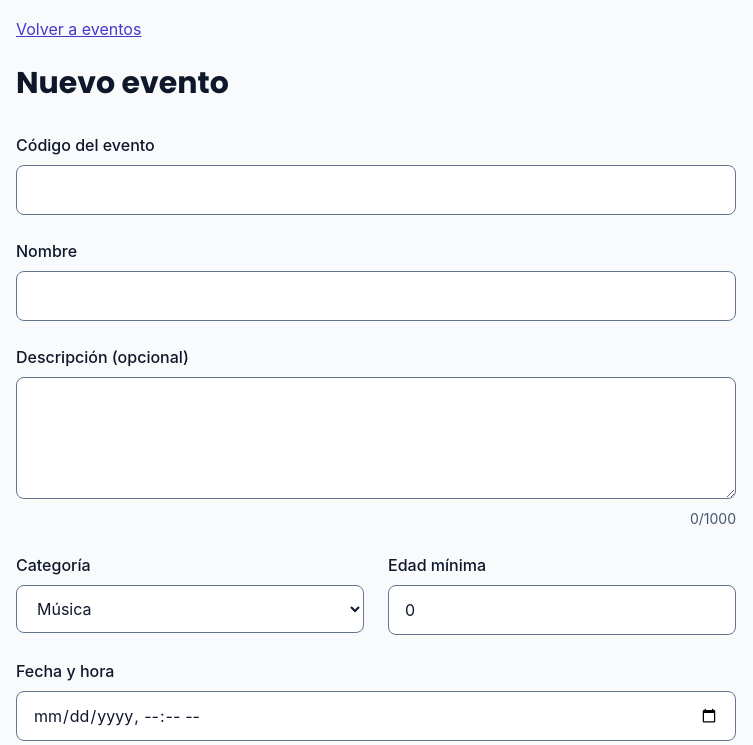
AdminCrearEvento › asigna los errores 400 a los campos del formulario
Type "CMF-2026" into the field labelled "Código del evento" at (376, 190), box [16,165,736,215]
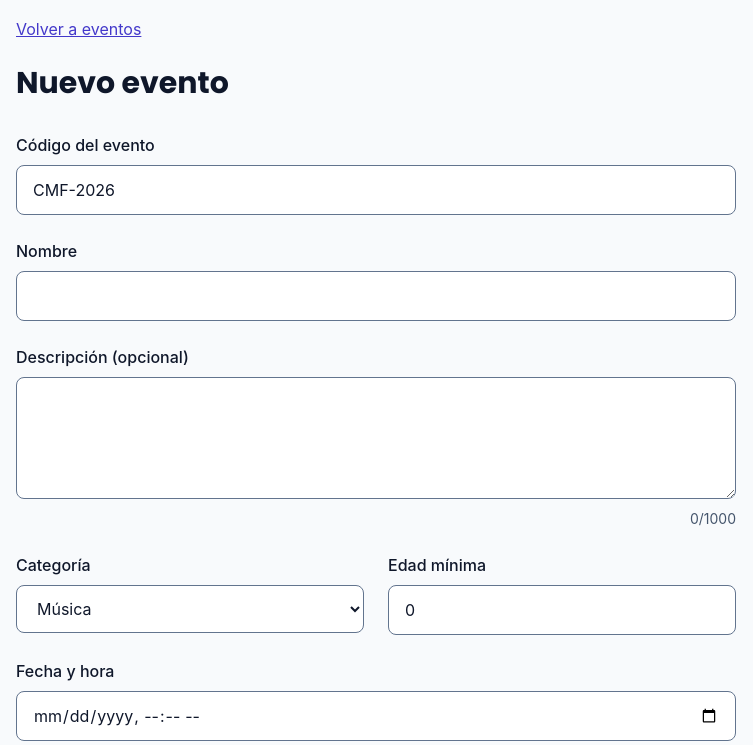
Type "Caribbean Music Fest 2026" into the field labelled "Nombre" at (376, 296), box [16,271,736,321]
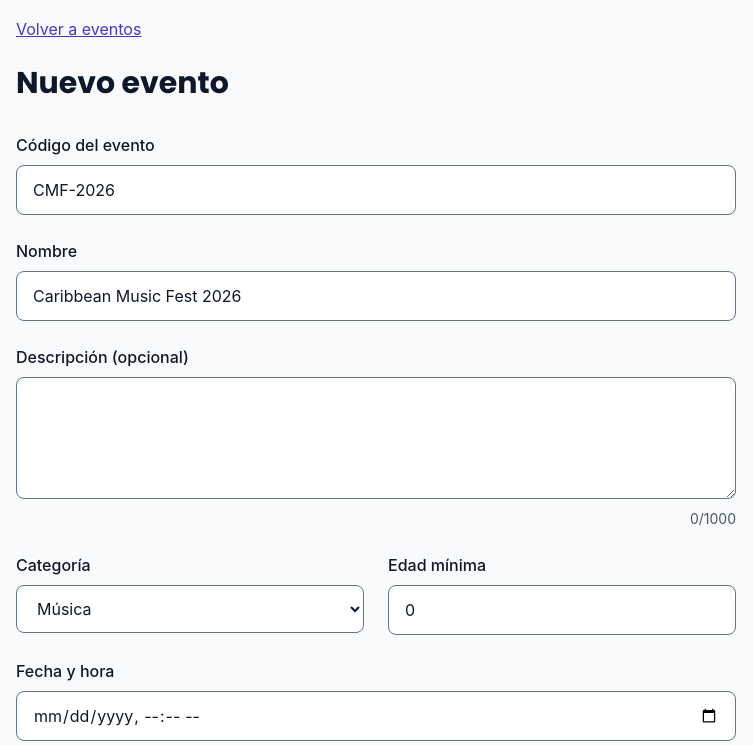
Type "2030-12-12T18:00" into the field labelled "Fecha y hora" at (376, 716), box [16,691,736,741]
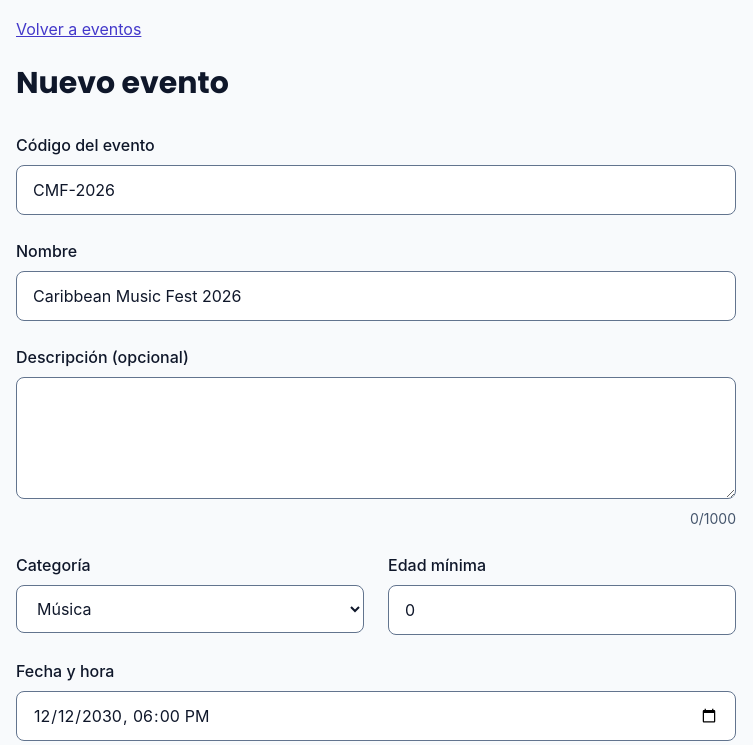
Replace the text in the number field labelled "Edad mínima" with "18" at (562, 610), box [388,585,736,635]
(page scrolled)
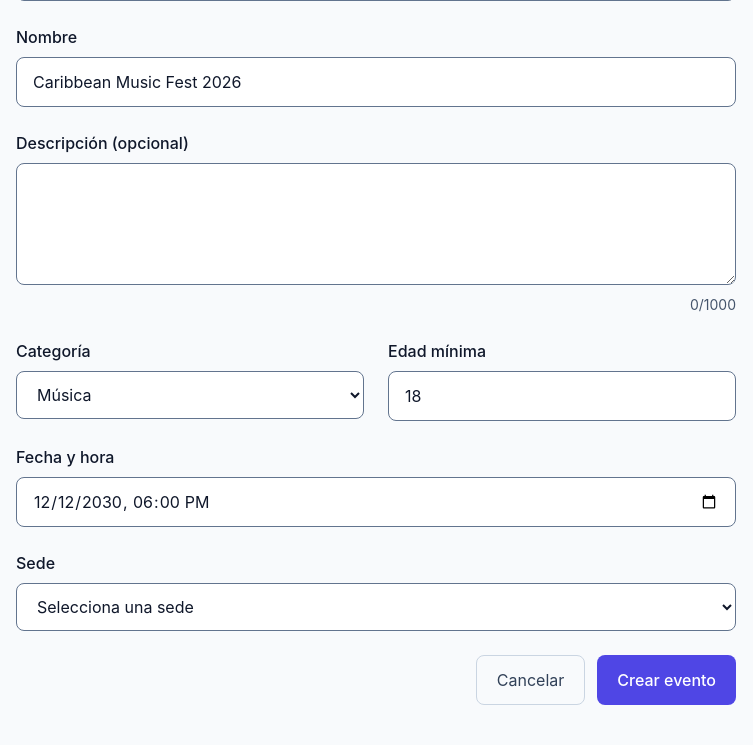
Select "Marina Convention Center (VEN-SMR-01)" in the dropdown labelled "Sede" at (376, 607), box [16,583,736,631]
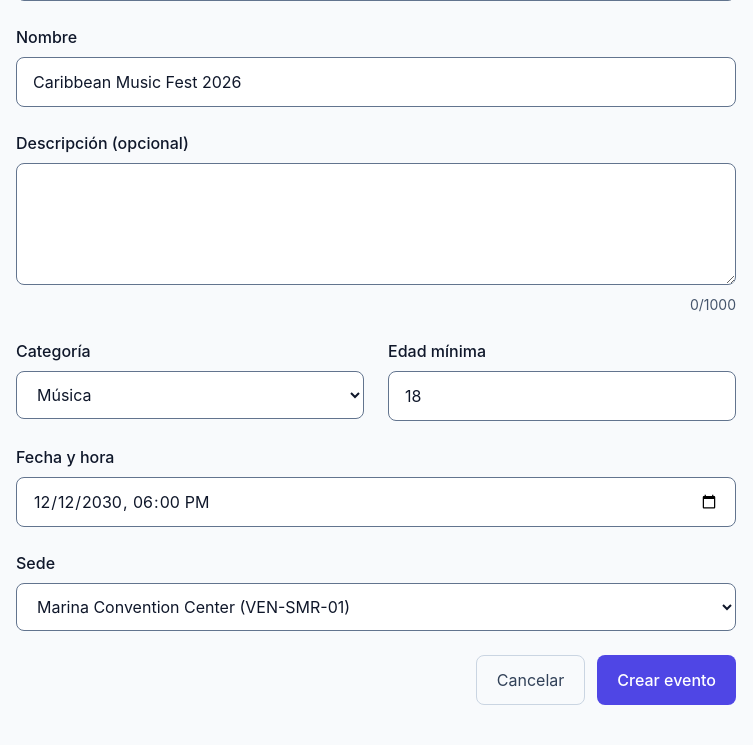
Click the button "Crear evento" at (667, 680), box [597,655,736,705]
(page scrolled)
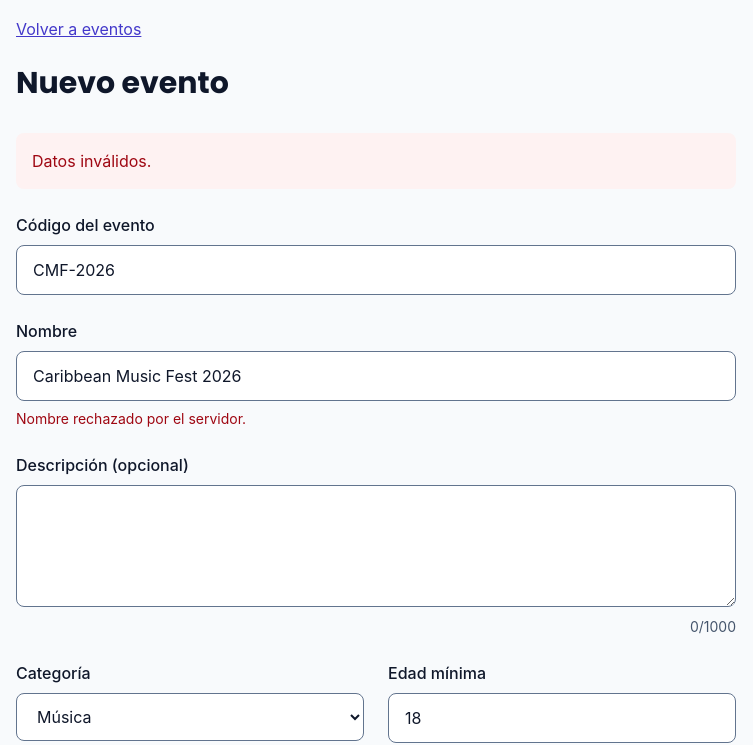
Check: the heading "Nuevo evento" is shown, box [16,62,229,104]
Check: the text "Nombre rechazado por el servidor." is shown, box [16,410,246,427]
